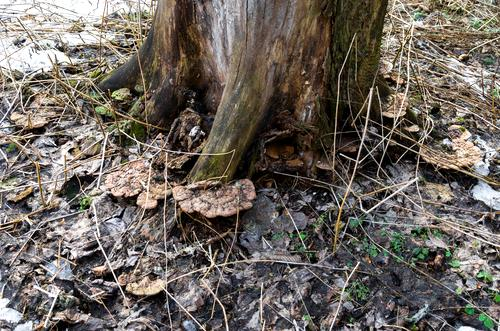Ganoderma - Fruit Body: (174, 179, 254, 217), (103, 160, 169, 205), (9, 104, 56, 128)
